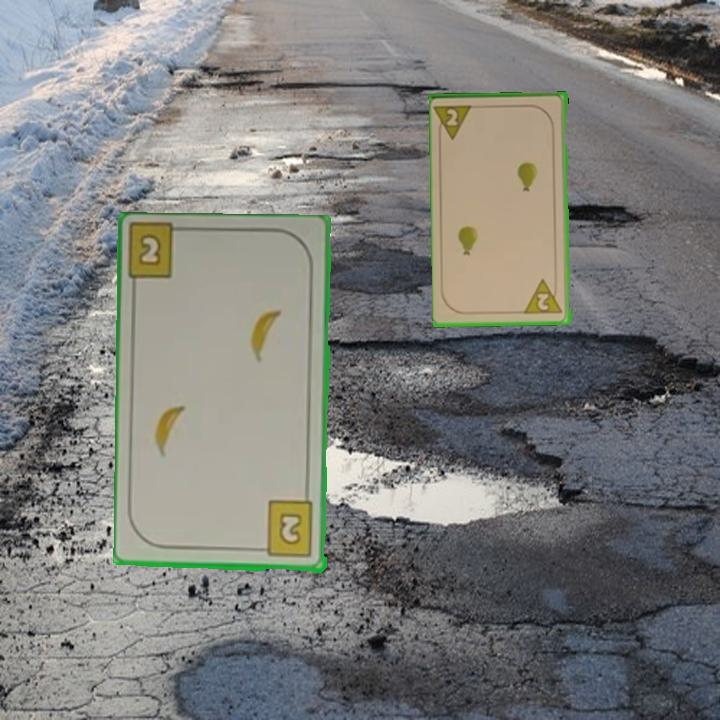2b: (254, 499, 316, 560), (135, 230, 164, 269)
2p: (433, 101, 477, 143), (522, 276, 566, 317)
